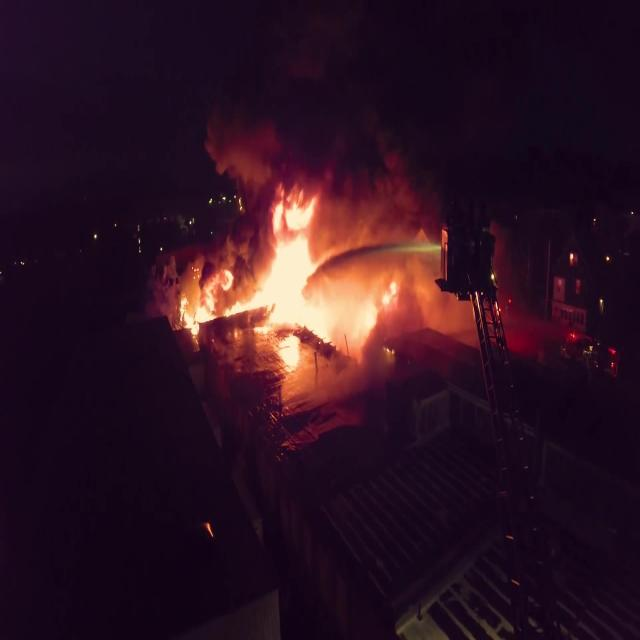fire: (258, 236, 376, 356)
smoke: (211, 48, 421, 169)
